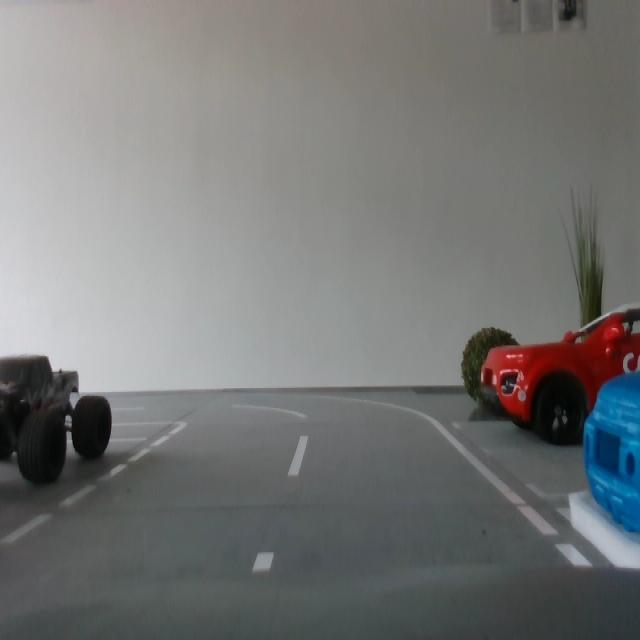car: (480, 302, 640, 445), (567, 365, 640, 574), (1, 354, 112, 485)
potted plant: (560, 184, 607, 384), (462, 325, 523, 411)
